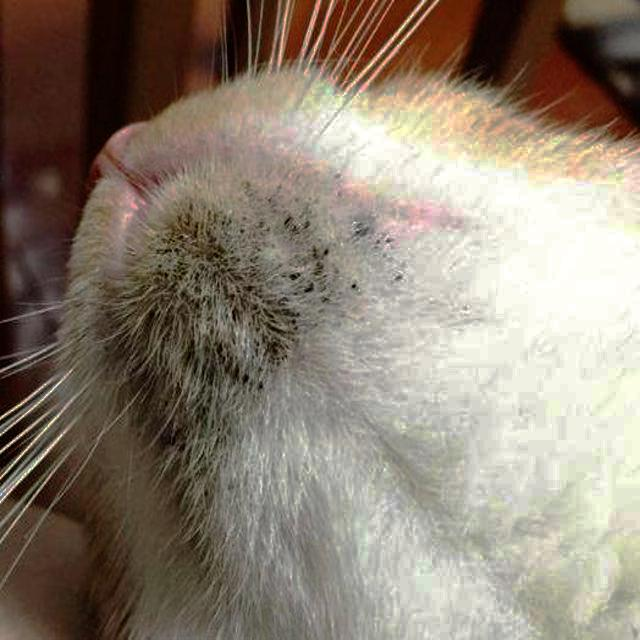acne: (106, 182, 373, 454)
